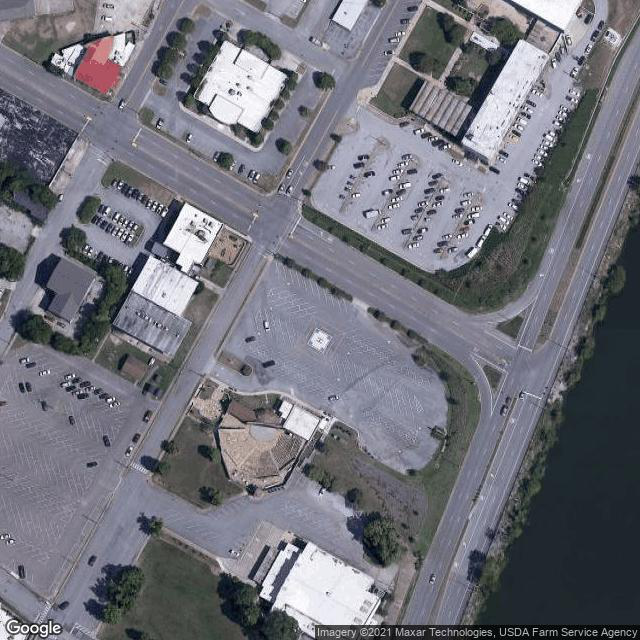Helipad: (303, 325, 337, 353)
